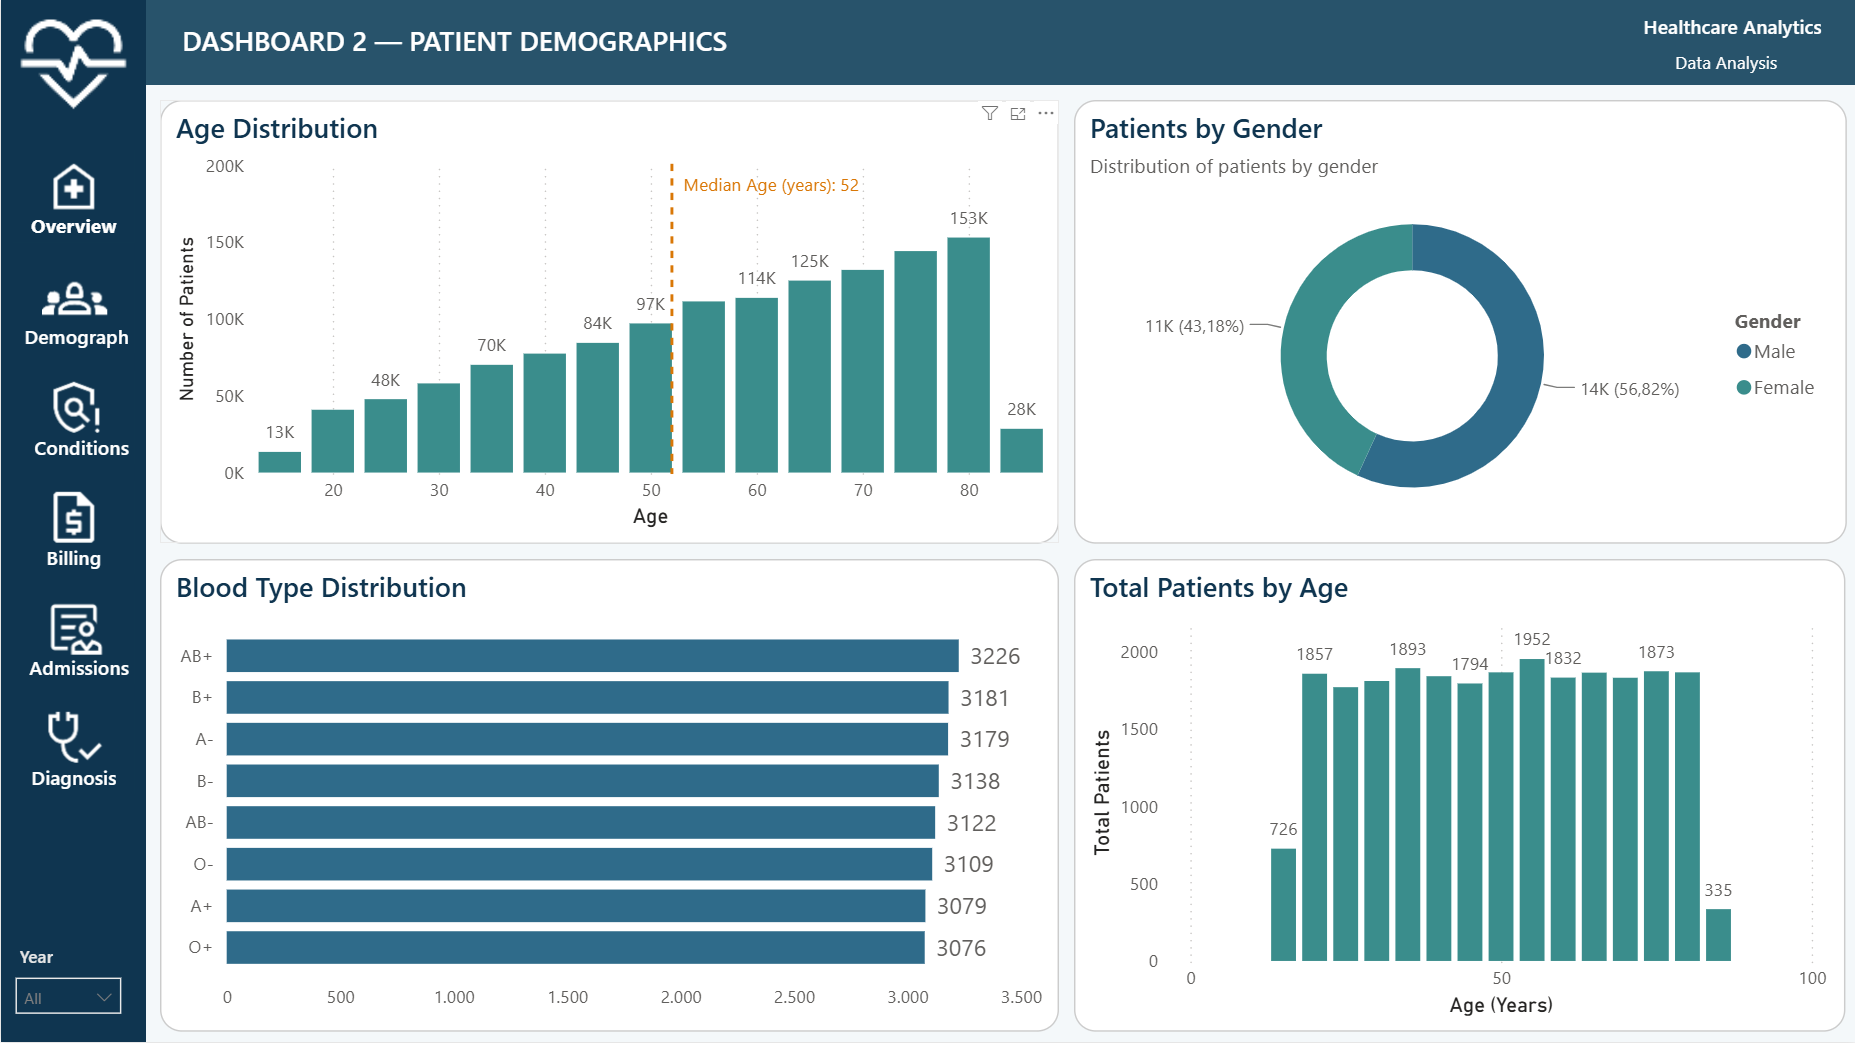

The dashboard page shown, as its layout file describes it:
{"tool":"powerbi","page":{"name":"Demographics","canvas":[1280,720],"ordinal":1},"visuals":[{"type":"group","id":"g1","title":"Navigation Bar","box":[0,0,100,720],"z":0},{"type":"shape","title":"Sidebar","box":[0,0,100,720],"z":1000,"group":"g1"},{"type":"shape","box":[99.9,0,1180.1,60.2],"z":1000},{"type":"actionButton","title":"NAV - Overview","box":[8.6,105,84,64],"z":1500,"group":"g1"},{"type":"textbox","title":"Left header title","box":[120,12,500.7,35],"z":2000},{"type":"actionButton","title":"NAV - Demographics","box":[8.6,181,84,64.5],"z":2000,"group":"g1"},{"type":"textbox","box":[1070.2,5.5,190.4,29.5],"z":3000},{"type":"actionButton","title":"NAV - Conditions","box":[8.6,257,84,64.5],"z":3000,"group":"g1"},{"type":"textbox","box":[1113.2,29.5,153.6,30.1],"z":4000},{"type":"actionButton","title":"NAV - Billing","box":[8.6,333,84,64.5],"z":4000,"group":"g1"},{"type":"image","box":[0,0,99.6,89.7],"z":5000},{"type":"actionButton","title":"NAV - Admissions","box":[8.6,409,84,64.5],"z":5000,"group":"g1"},{"type":"donutChart","title":"Patients by Gender","fields":{"Category":["Healthcare Dataset.Gender"],"Y":["Healthcare Dataset.Total Patients"]},"box":[739.7,70,532.6,305.9],"z":6000},{"type":"actionButton","title":"NAV - Diagnosis","box":[8.6,485,84,64.5],"z":6000,"group":"g1"},{"type":"clusteredColumnChart","title":"Age Distribution","fields":{"Category":["Healthcare Dataset.Age (bins)"],"Y":["Sum(Healthcare Dataset.Age)"]},"box":[110,70,619.9,305.9],"z":7000},{"type":"clusteredBarChart","title":"Blood Type Distribution","fields":{"Category":["Healthcare Dataset.Blood Type"],"Y":["CountNonNull(Healthcare Dataset.Blood Type)"]},"box":[110,387,619.9,326.2],"z":8000},{"type":"clusteredColumnChart","title":"Total Patients by Age ","fields":{"Category":["Healthcare Dataset.Age (bins)"],"Y":["Healthcare Dataset.Total Patients"]},"box":[740.3,387,532,326.2],"z":9000},{"type":"slicer","fields":{"Values":["Healthcare Dataset.Date of Admission.Variation.Date Hierarchy.Year"]},"box":[0,647.6,92.8,55.1],"z":10000}]}

Visuals, with their boxes in screenshot pixels (x1, y1, x2, y2), scaled from the page's 1280x720 canvas onto the 1855x1043 screenshot:
"Navigation Bar" group: 0, 0, 145, 1042
"Sidebar" shape: 0, 0, 145, 1042
shape: 145, 0, 1854, 87
"NAV - Overview" actionButton: 12, 152, 134, 245
"Left header title" textbox: 174, 17, 900, 68
"NAV - Demographics" actionButton: 12, 262, 134, 356
textbox: 1551, 8, 1827, 51
"NAV - Conditions" actionButton: 12, 372, 134, 466
textbox: 1613, 43, 1836, 86
"NAV - Billing" actionButton: 12, 482, 134, 576
image: 0, 0, 144, 130
"NAV - Admissions" actionButton: 12, 592, 134, 686
"Patients by Gender" donutChart: 1072, 101, 1844, 545
"NAV - Diagnosis" actionButton: 12, 703, 134, 796
"Age Distribution" clusteredColumnChart: 159, 101, 1058, 545
"Blood Type Distribution" clusteredBarChart: 159, 561, 1058, 1033
"Total Patients by Age " clusteredColumnChart: 1073, 561, 1844, 1033
slicer - Healthcare Dataset.Date of Admission.Variation.Date Hierarchy.Year: 0, 938, 134, 1018
